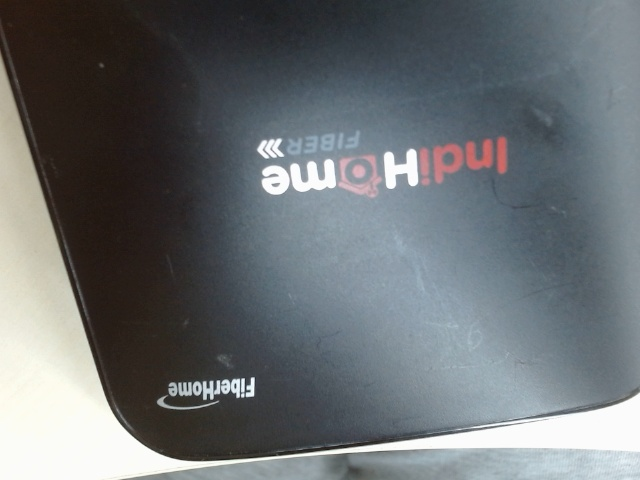AF_IndiHome: (234, 117, 517, 202)
